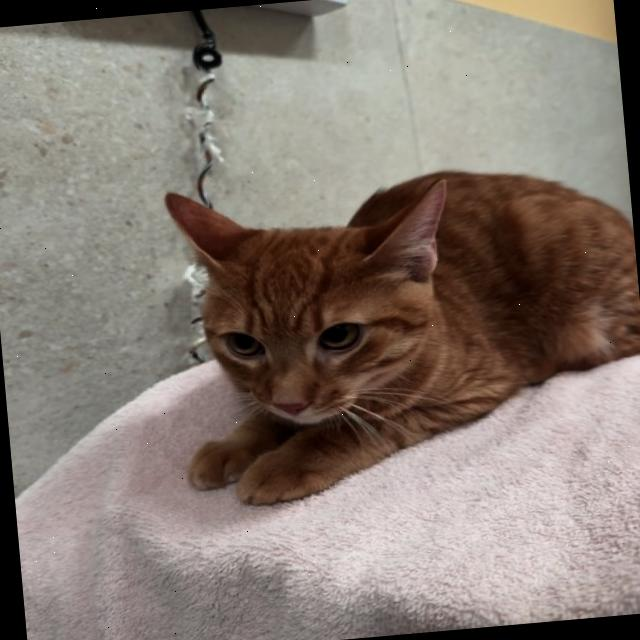domestic_short_hair_cat: (148, 160, 474, 454)
